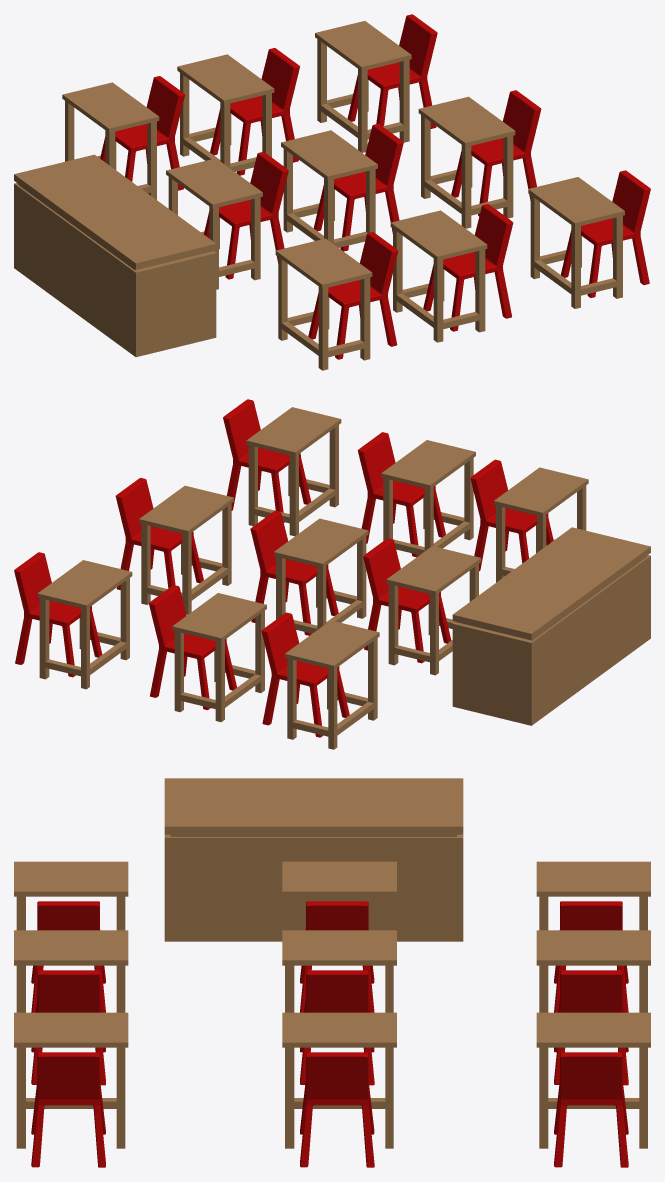
Rendered from classroomdeskchairscolor.fbx.
3 renders of one model, top to bottom at view 1: azimuth 30°, elevation 25°; view 2: azimuth 150°, elevation 25°; view 3: azimuth 270°, elevation 25°, orthographic. The views are drawn at different scales.
Parts seen in each view (by area): view 1: pCube19; view 2: pCube19; view 3: pCube19.
Part boxes in pixels (left/top/right/bottom): pCube19: left=14, top=14, right=650, bottom=370; pCube19: left=14, top=399, right=650, bottom=749; pCube19: left=14, top=778, right=650, bottom=1167.
Size of the model in its own units: 17.08 by 3.31 by 16.58.
